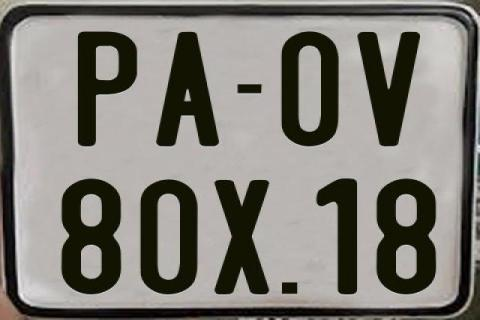0: (61, 176, 125, 294), (282, 30, 344, 150), (139, 179, 203, 295), (374, 178, 434, 296), (316, 179, 362, 299)
A: (155, 30, 220, 150)
P: (77, 29, 137, 145)
V: (356, 32, 420, 146)
X: (213, 178, 268, 298)
